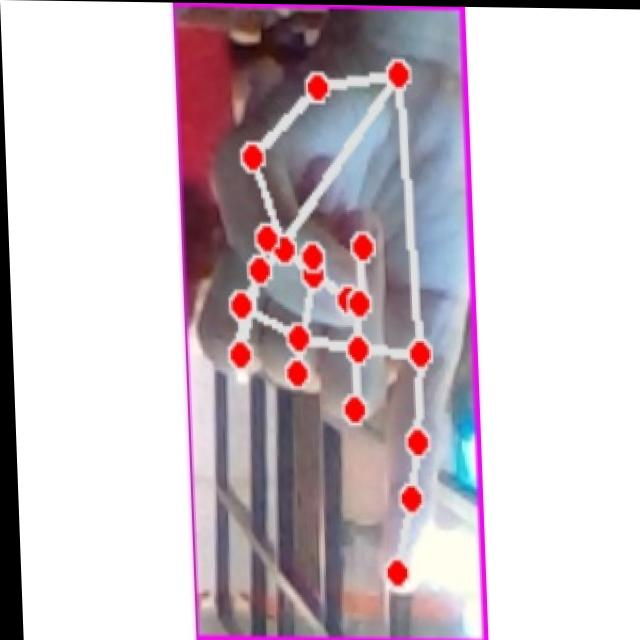I: (185, 30, 472, 603)
